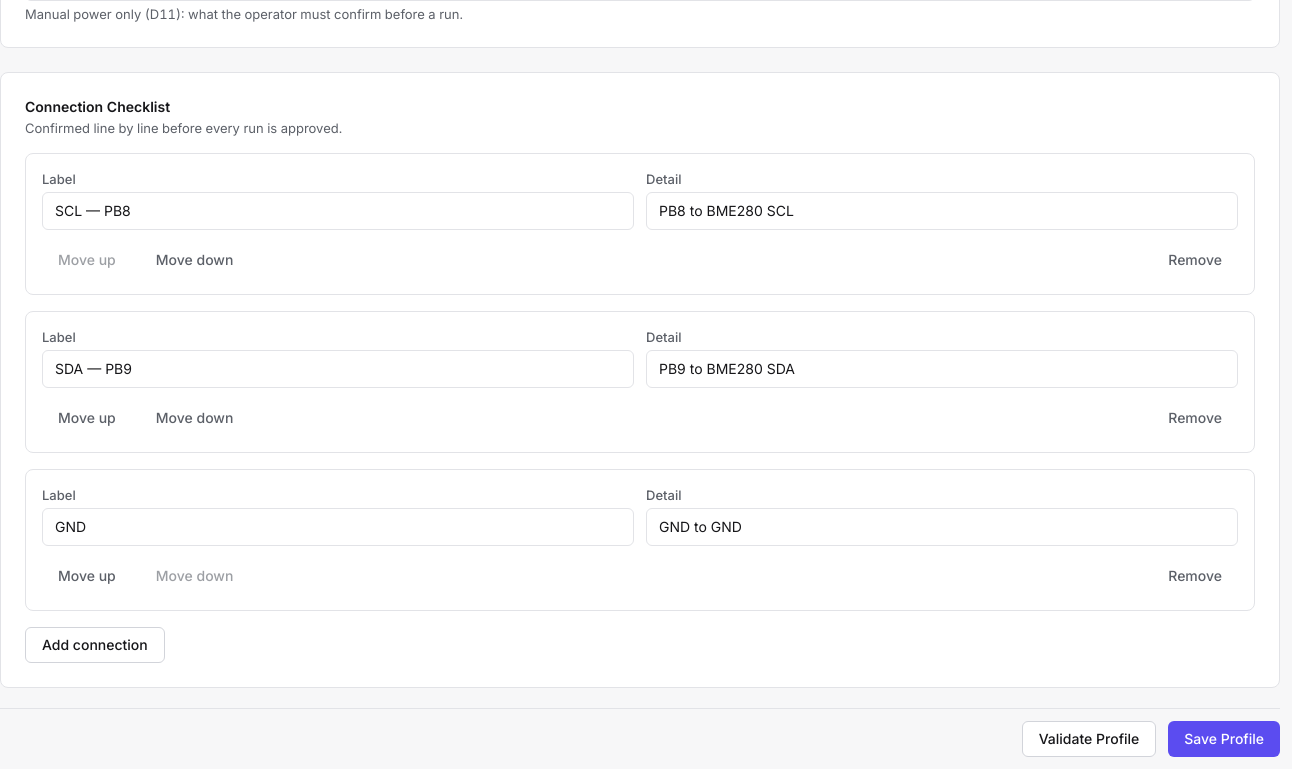
it: validation against the contract schema › errors a checklist row that is half-filled, at that row
The image size is (1292, 769).
(page scrolled)
Clear the 2nd field labelled "Detail": (942, 369) [646, 350, 1238, 388]
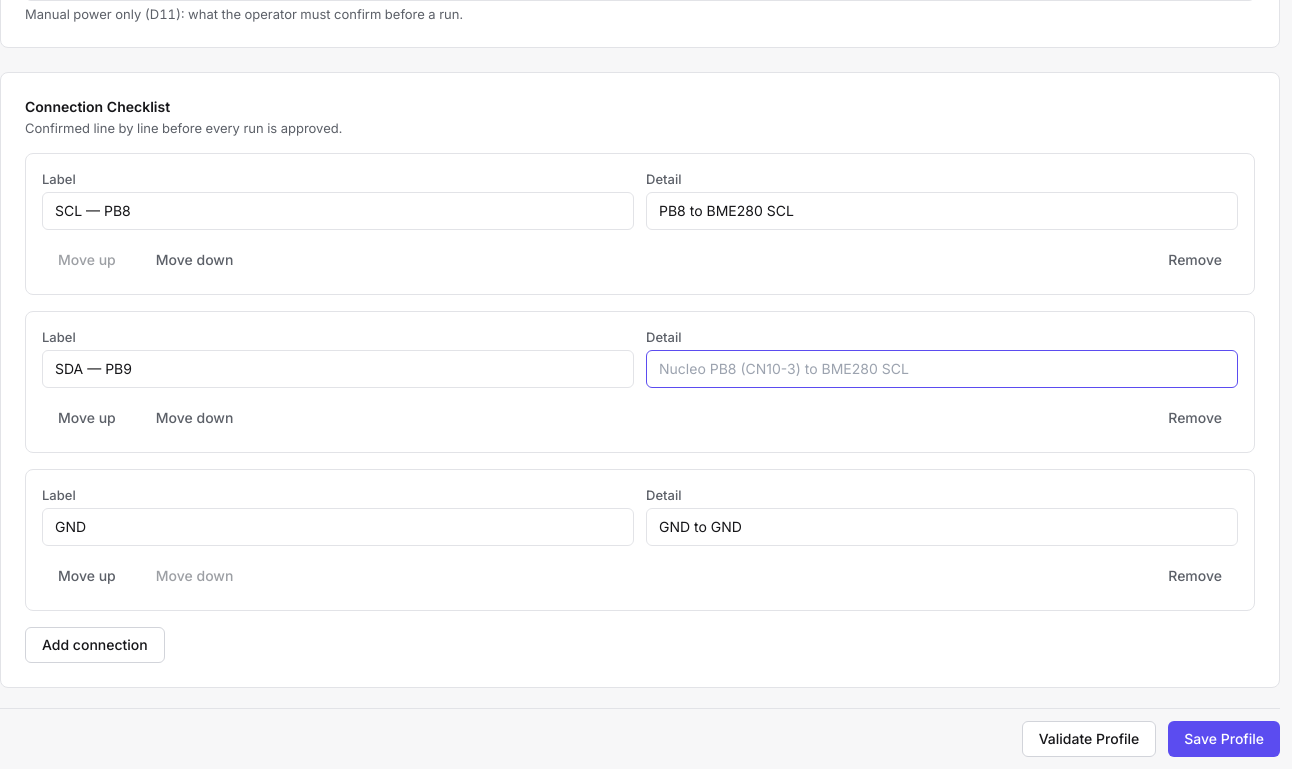
Click the button "Save Profile": (1224, 739) [1168, 721, 1280, 757]
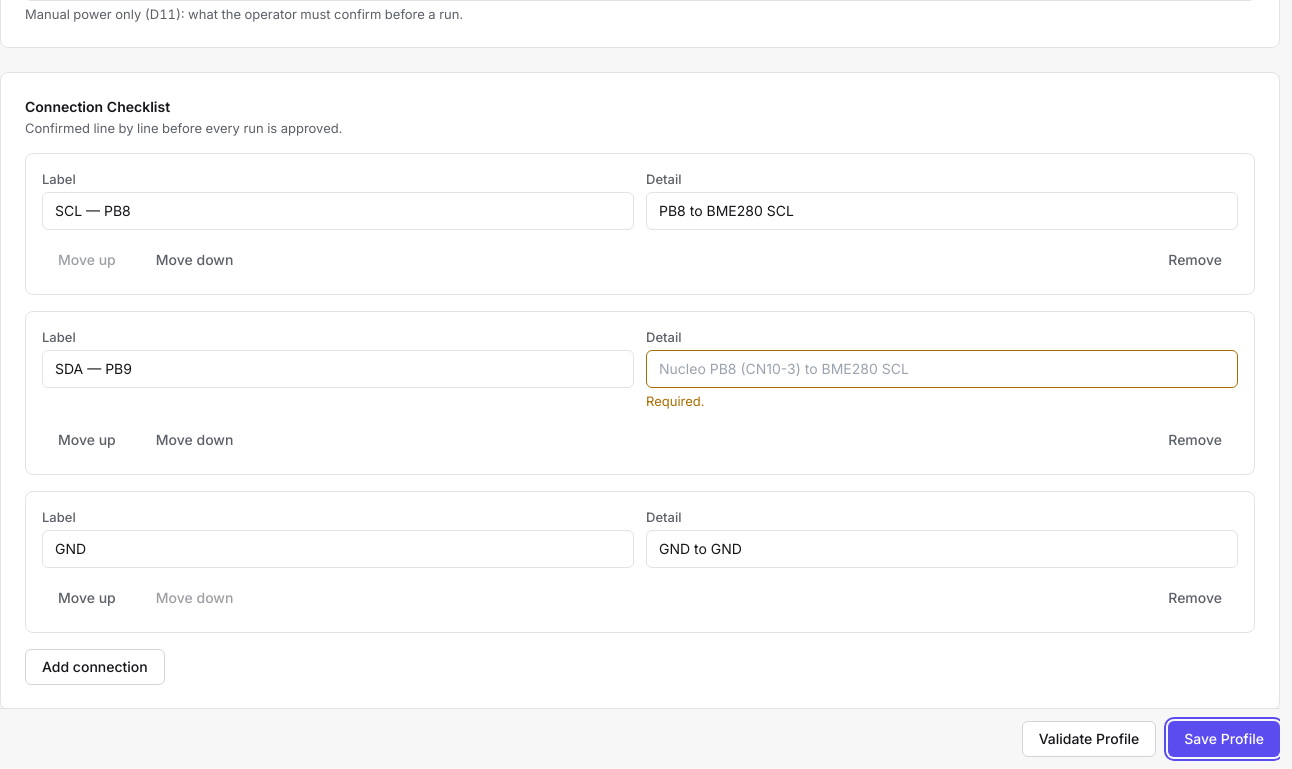
expect the text "Required." is shown: met, box [646, 393, 704, 409]
